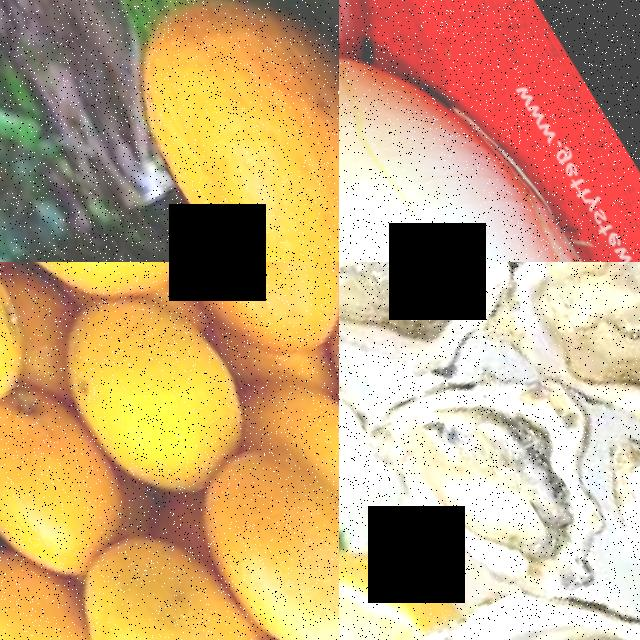lemon: (339, 529, 487, 640)
onion: (339, 0, 640, 262)
orange: (71, 0, 339, 262), (25, 270, 269, 504), (160, 424, 339, 640), (30, 514, 283, 640), (0, 367, 144, 587), (147, 262, 339, 371), (2, 262, 218, 329), (0, 262, 62, 440), (0, 564, 117, 640)
oysters: (339, 338, 634, 629), (474, 262, 640, 459), (339, 262, 550, 414), (400, 529, 640, 640), (577, 367, 640, 640)
